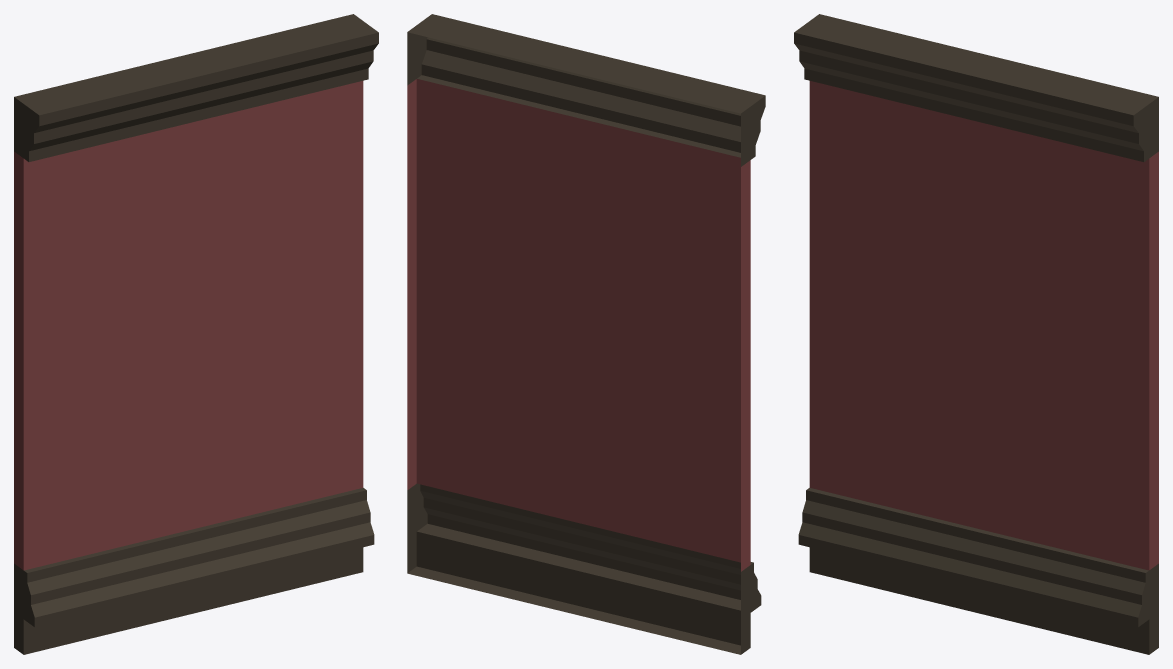
Rendered from Wall1.fbx.
3 renders of one model, left to right at view 1: azimuth 30°, elevation 25°; view 2: azimuth 150°, elevation 25°; view 3: azimuth 330°, elevation 25°, orthographic.
Visible parts, largest first — view 1: Wall1; view 2: Wall1; view 3: Wall1.
Part boxes in pixels (x1,y1,x2,y2): Wall1: (14, 14, 378, 654); Wall1: (407, 14, 765, 654); Wall1: (794, 14, 1158, 654).
Bounding box in the file's own units: 200 × 310 × 25.82.
